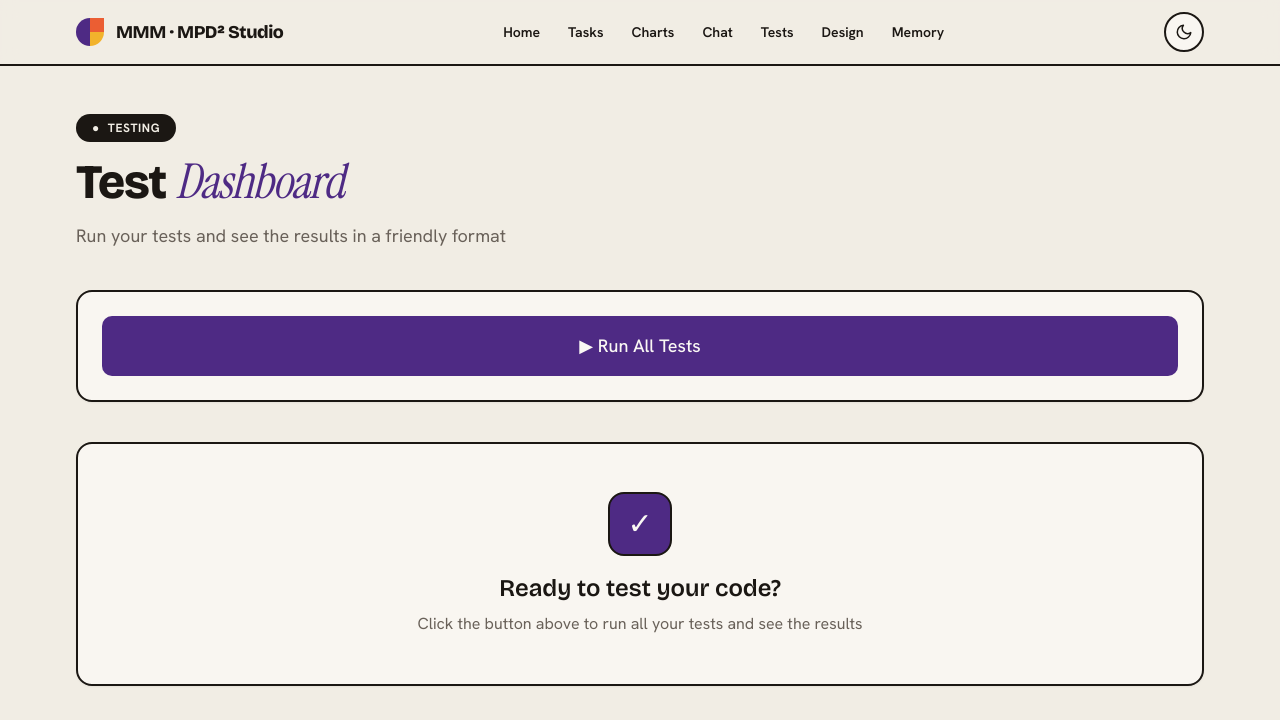
Scenario: TestDashboard › shows loading state when running tests
This screenshot has width=1280, height=720.
What coordinates should you click on to do the following:
click the button "▶ Run All Tests"
I would click on:
 (640, 346)
Its box is x1=102 y1=316 x2=1178 y2=376.
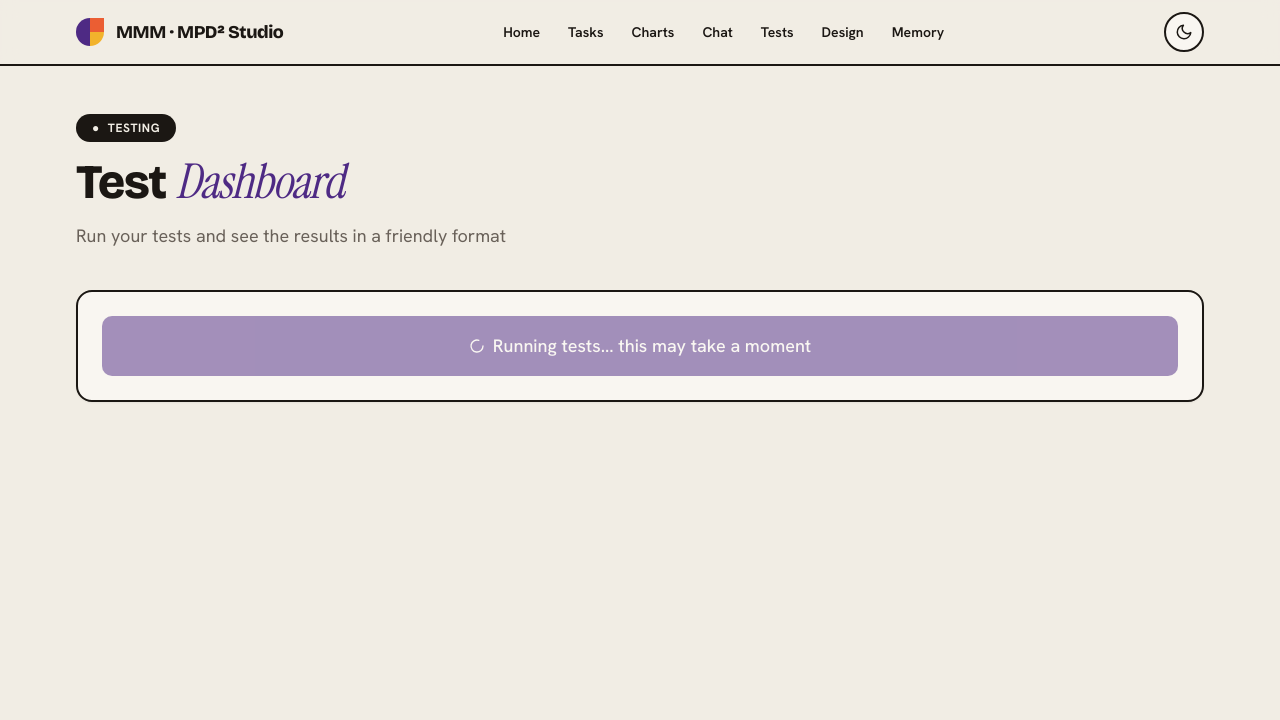
Expected: the button "Running tests... this may take a moment" is disabled, x1=102 y1=316 x2=1178 y2=376
